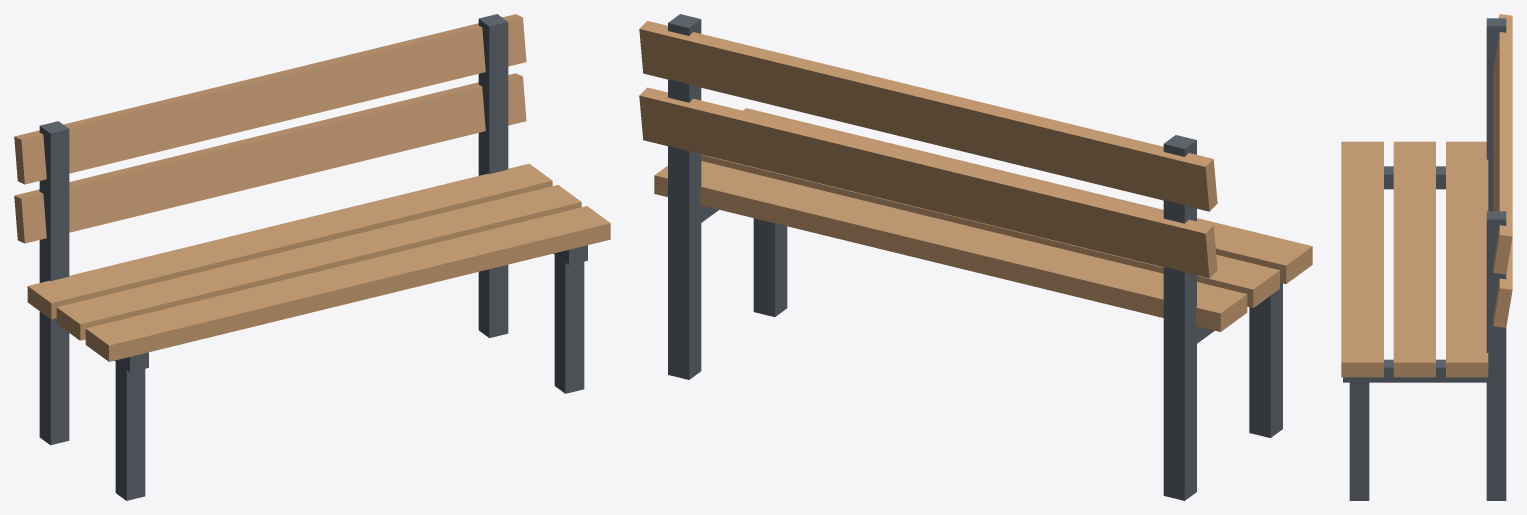
Rendered from bench-01.glb.
3 renders of one model, left to right at view 1: azimuth 30°, elevation 25°; view 2: azimuth 150°, elevation 25°; view 3: azimuth 270°, elevation 25°, orthographic. The views are drawn at different scales.
Parts seen in each view (by area): view 1: Seat, Back, Legs; view 2: Back, Seat, Legs; view 3: Seat, Legs, Back.
Part boxes in pixels (bbox=[...]): Seat: bbox=[27, 163, 610, 361]; Back: bbox=[14, 14, 526, 243]; Legs: bbox=[39, 14, 587, 500]; Back: bbox=[639, 21, 1217, 278]; Seat: bbox=[654, 108, 1312, 331]; Legs: bbox=[668, 14, 1282, 500]; Seat: bbox=[1341, 141, 1488, 377]; Legs: bbox=[1343, 18, 1506, 500]; Back: bbox=[1493, 14, 1512, 327].
Size of the model in its own units: 1.6 by 0.95 by 0.5242.
